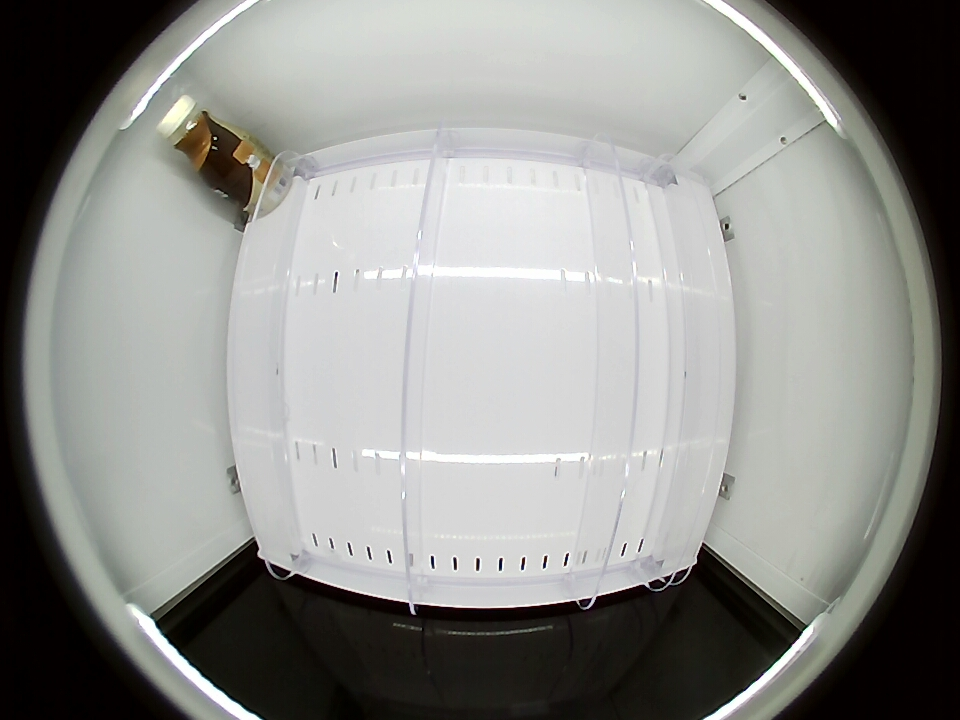kafei: (157, 97, 238, 178)
